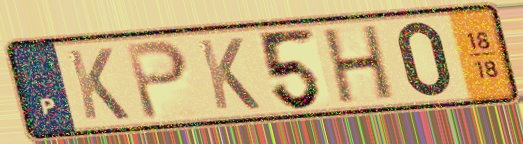0: (394, 19, 455, 99)
5: (252, 25, 324, 112)
H: (322, 21, 397, 108)
K: (194, 36, 264, 113), (64, 46, 133, 123)
P: (121, 37, 191, 123)
